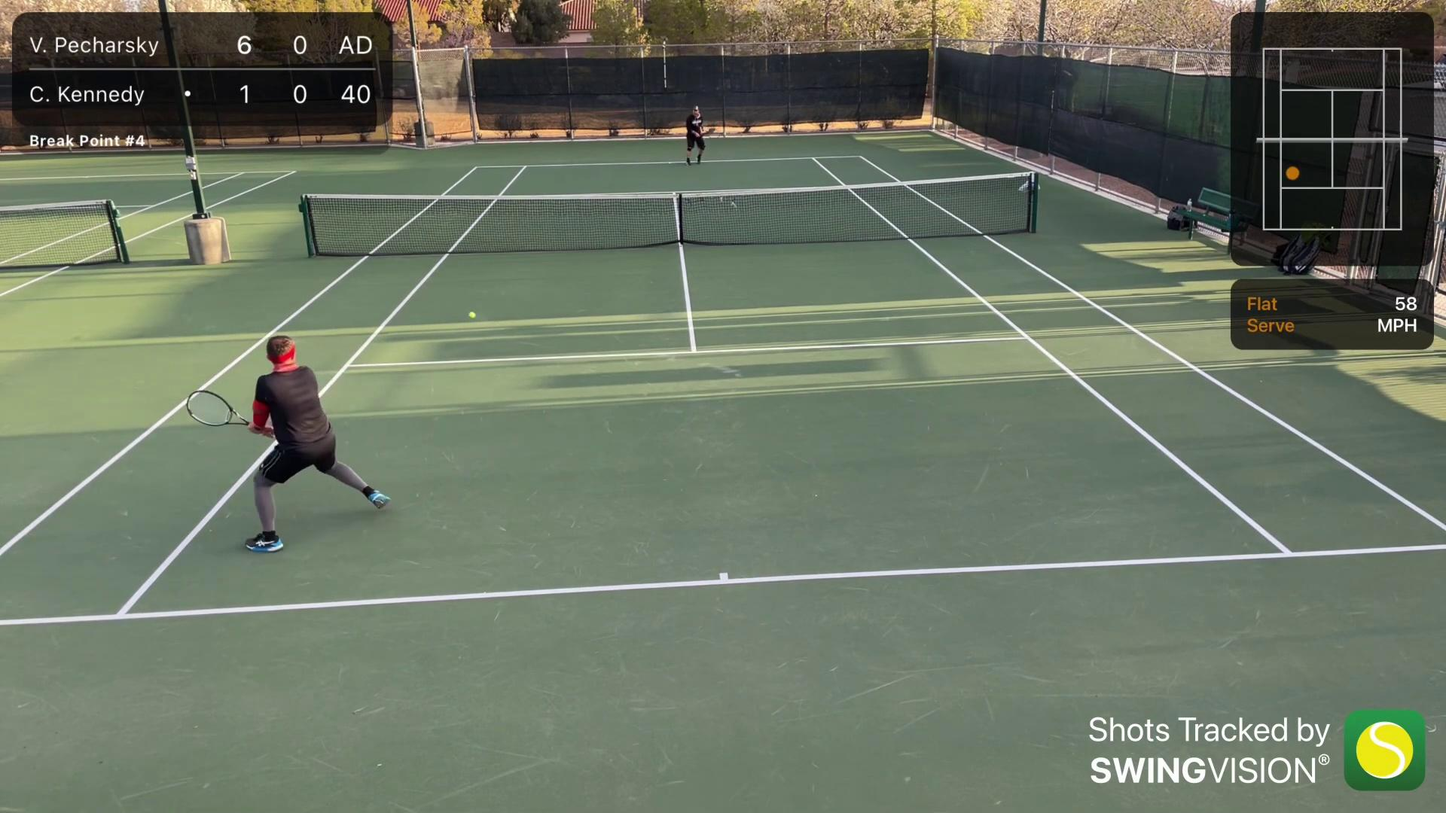ball: (467, 311, 476, 319)
